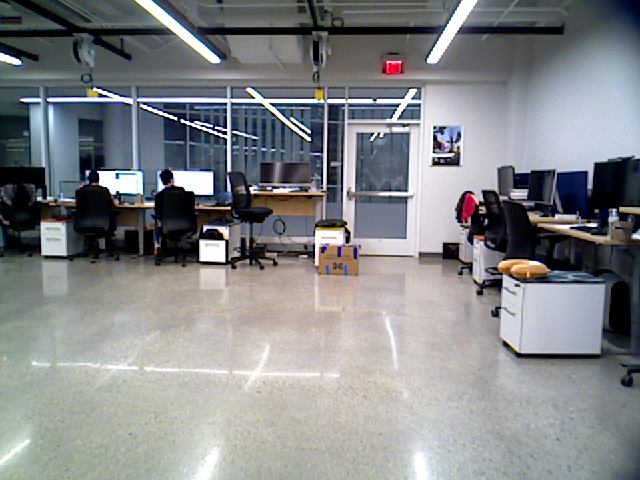painting3: (428, 125, 467, 168)
